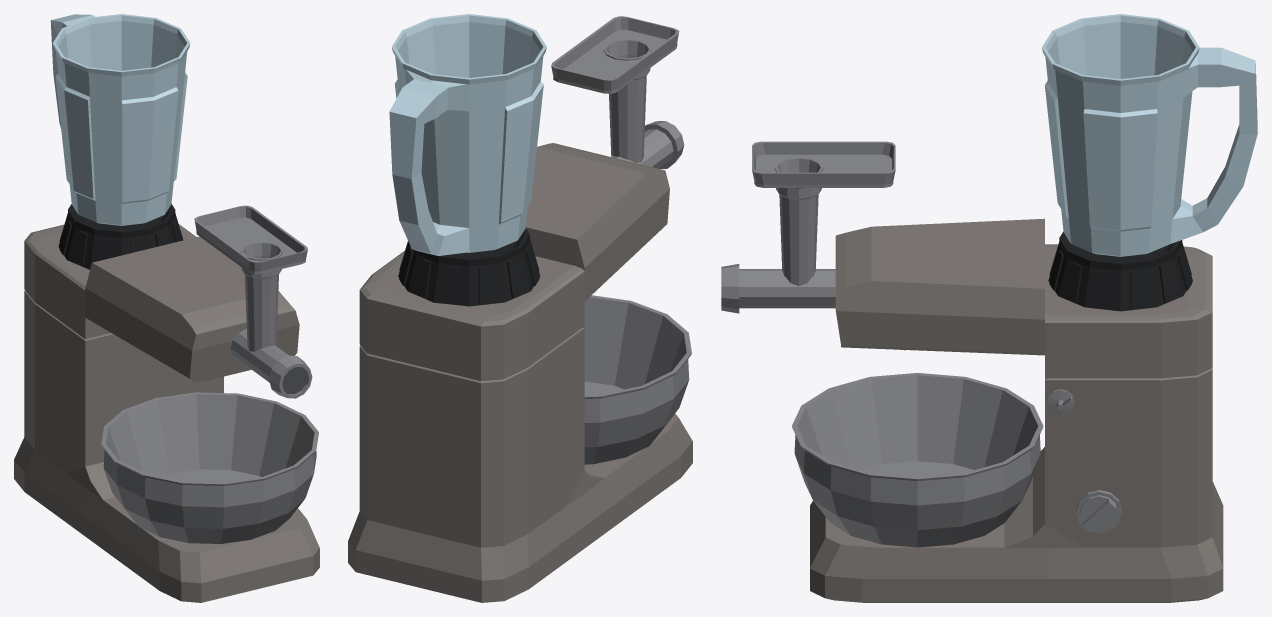
File: foodprocessor_01_A.gltf
3 views of the same model, side by side, from view 1: azimuth 30°, elevation 25°; view 2: azimuth 150°, elevation 25°; view 3: azimuth 270°, elevation 25° (orthographic). The views are drawn at different scales.
Parts seen in each view (by area): view 1: foodprocessor_01_A, Plateforfoodprocessor_01_A, blenderforfoodprocessor_01_A; view 2: foodprocessor_01_A, blenderforfoodprocessor_01_A, Plateforfoodprocessor_01_A; view 3: foodprocessor_01_A, blenderforfoodprocessor_01_A, Plateforfoodprocessor_01_A, Switchforfoodprocessor_02_A.
Boxes of the visible parts, bbox=[...] form: foodprocessor_01_A: bbox=[14, 204, 319, 602]; Plateforfoodprocessor_01_A: bbox=[101, 392, 318, 543]; blenderforfoodprocessor_01_A: bbox=[50, 14, 190, 225]; foodprocessor_01_A: bbox=[348, 16, 692, 602]; blenderforfoodprocessor_01_A: bbox=[389, 14, 546, 255]; Plateforfoodprocessor_01_A: bbox=[583, 295, 691, 464]; foodprocessor_01_A: bbox=[721, 141, 1223, 602]; blenderforfoodprocessor_01_A: bbox=[1042, 14, 1257, 256]; Plateforfoodprocessor_01_A: bbox=[792, 373, 1043, 547]; Switchforfoodprocessor_02_A: bbox=[1076, 490, 1122, 533].
Size of the model in its own units: 0.2179 by 0.4952 by 0.4639.
1 material, 1 textured.
